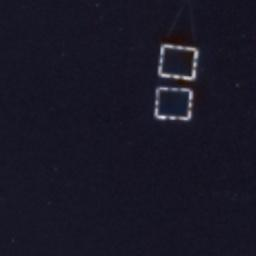square_solid: (155, 42, 200, 82), (152, 85, 196, 123)
